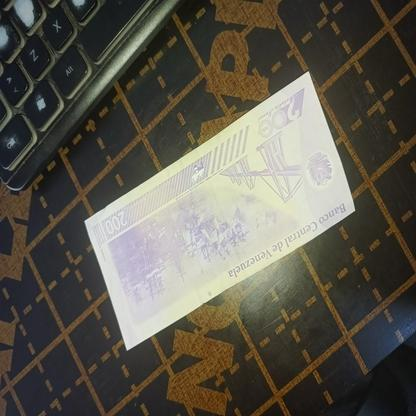two_hundred-back-vef: (82, 70, 357, 352)
